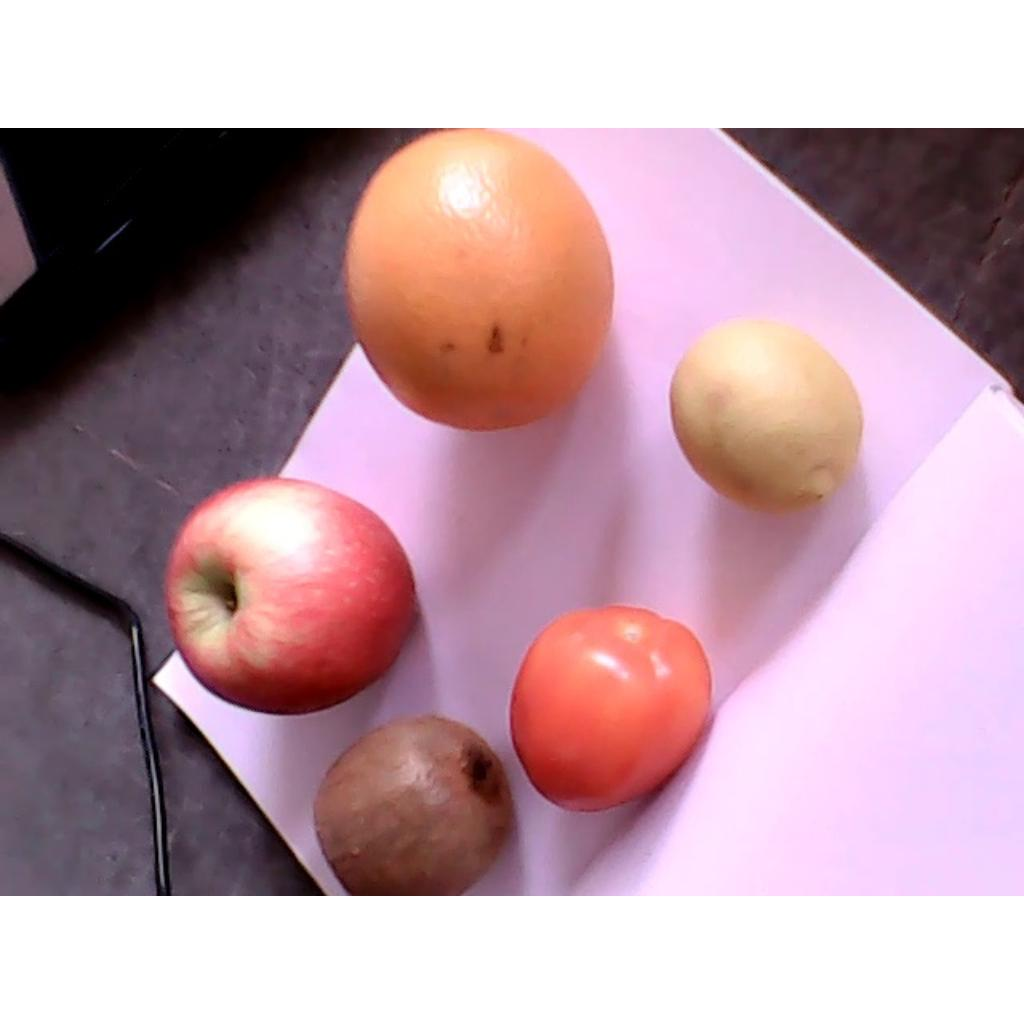apple: (164, 475, 417, 718)
kiwi: (314, 713, 510, 894)
lemon: (671, 321, 863, 511)
orange: (347, 130, 616, 430)
tomato: (511, 606, 711, 812)
